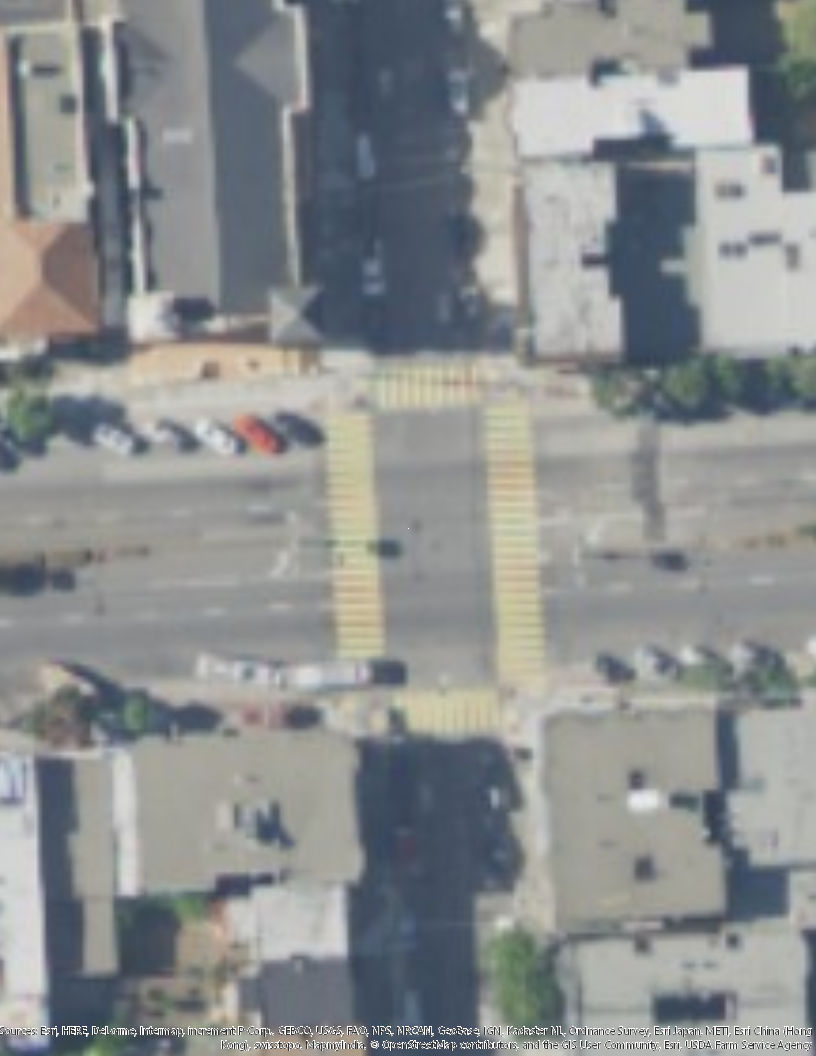zebracross: (482, 407, 547, 680), (324, 408, 388, 656), (405, 687, 499, 735), (377, 365, 479, 406)
